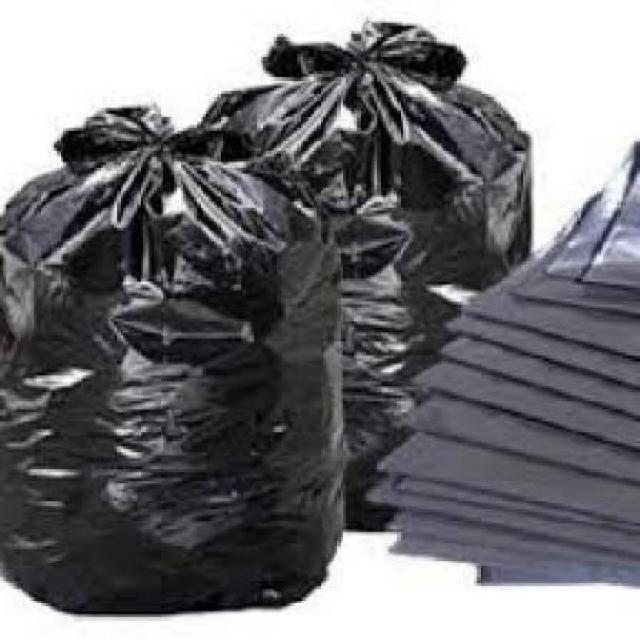garbage: (0, 3, 637, 638)
